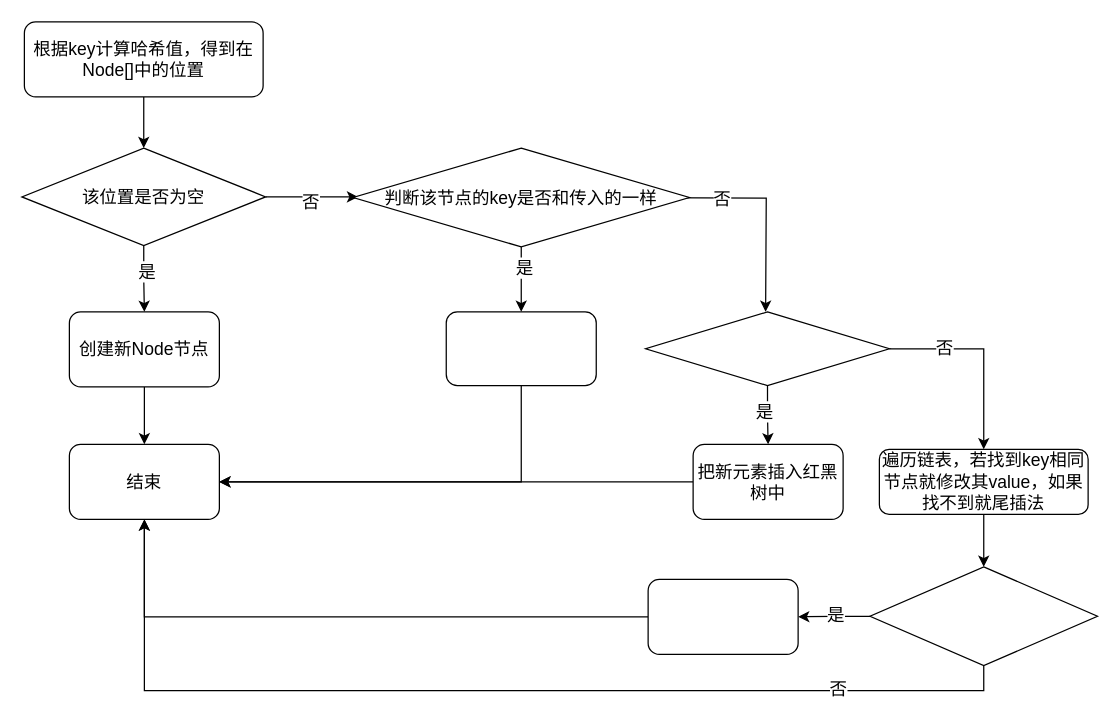
The diagram is 1120 pixels wide and 723 high, and some of its shapes have lost their labels. The centre of each missing label's shape, as x and y in pixels:
"是否达到设定阈值" goes at point 983,616.
"直接修改value" goes at point 520,348.
"该节点是否TreeNode类型" goes at point 766,348.
"调整Node[]长度或链表变为树" goes at point 722,616.
